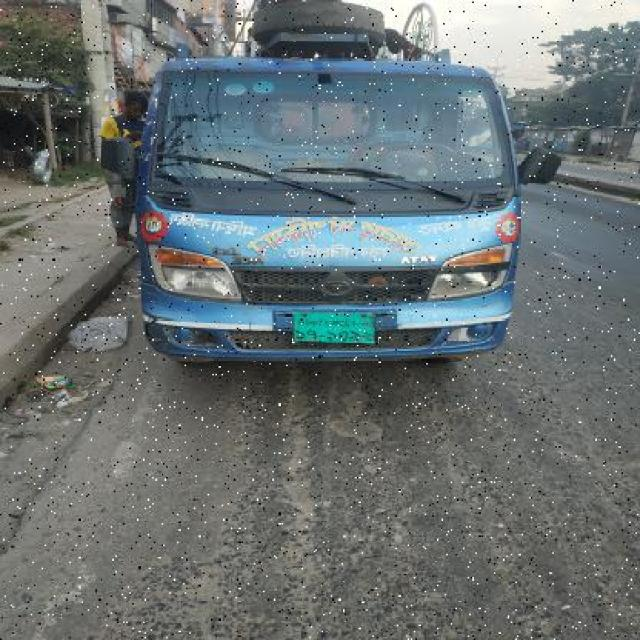numberplate: (292, 309, 378, 345)
